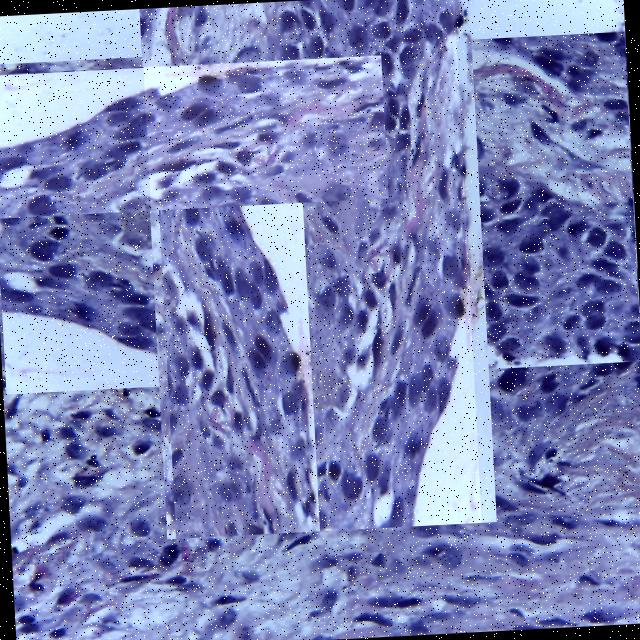Nuclear Hyperchromatism: (165, 0, 454, 539), (0, 57, 382, 215)
